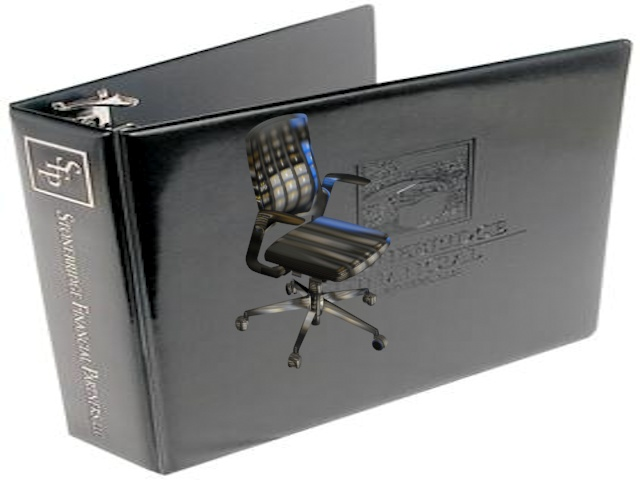desk_chair: (225, 112, 401, 376)
